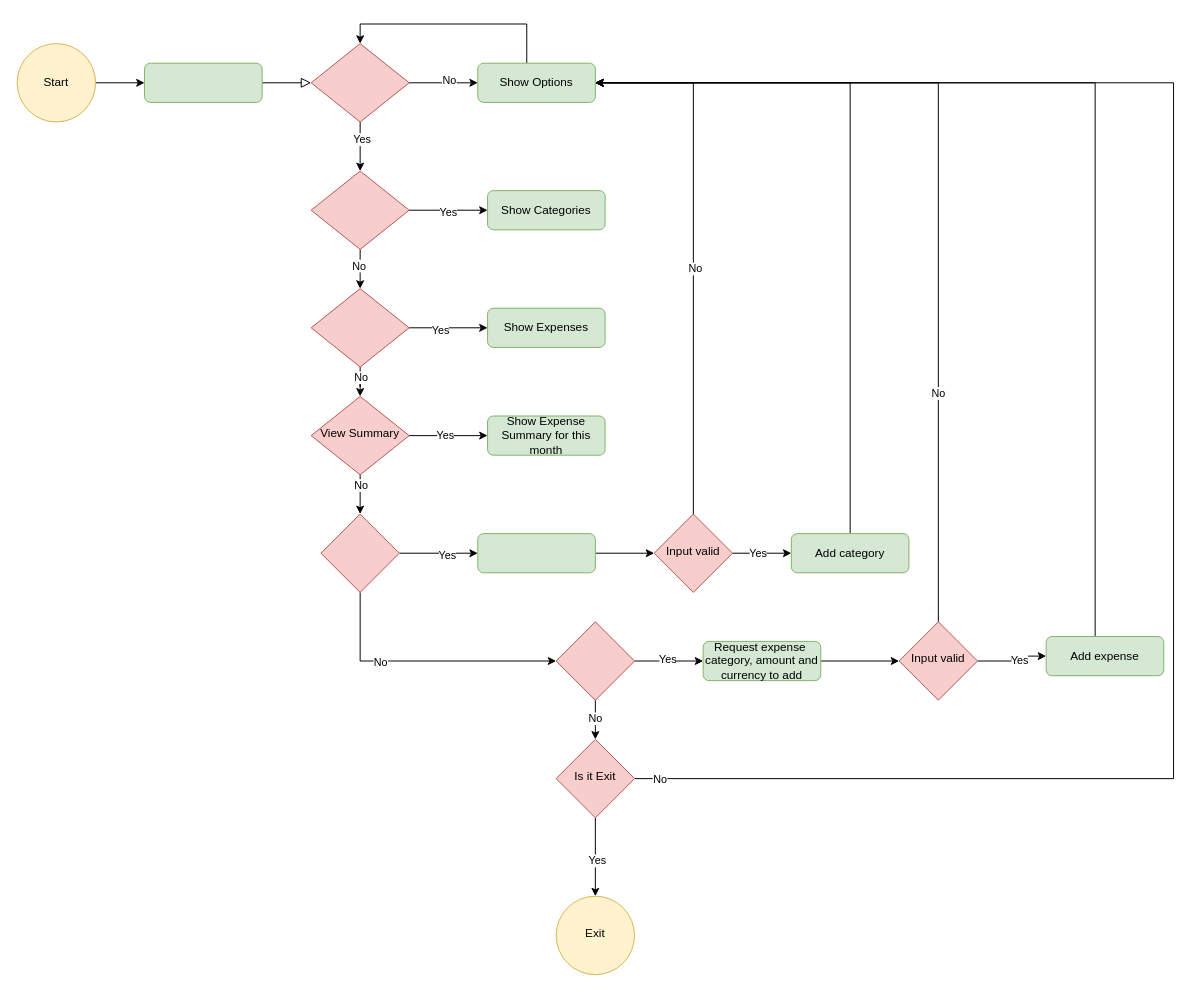
Some shapes in this 1199 by 992 pixel diagram are drawn without their labels. Here are the shapes that lost their labels. From the top down, the centre of each, then its label:
[203,82]: User is shown a list of options
[359,82]: Correct value selected
[359,209]: Is it List Categories
[359,327]: Is it List Expences
[359,552]: Is it add Category
[536,553]: Request category name to add
[595,660]: Is it add Expense
